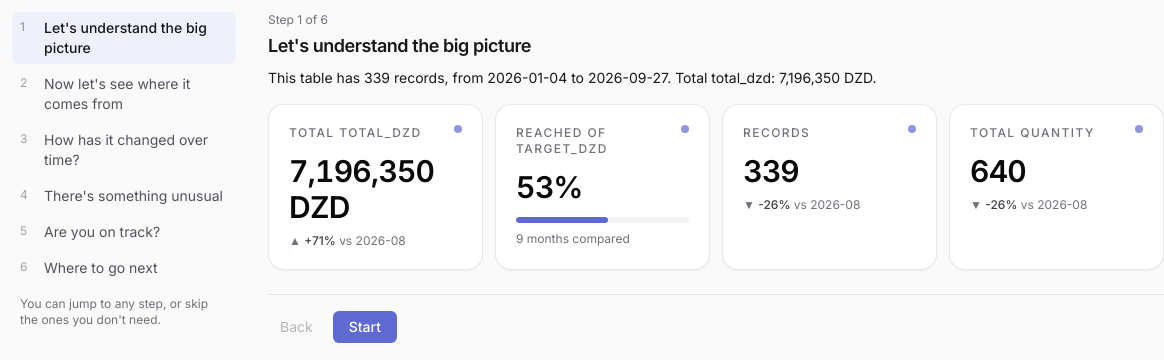
it: the tour › any step can be skipped to directly
The width and height of the screenshot is (1164, 360).
Click the text "Are you on track?": (102, 232) [44,222,160,242]
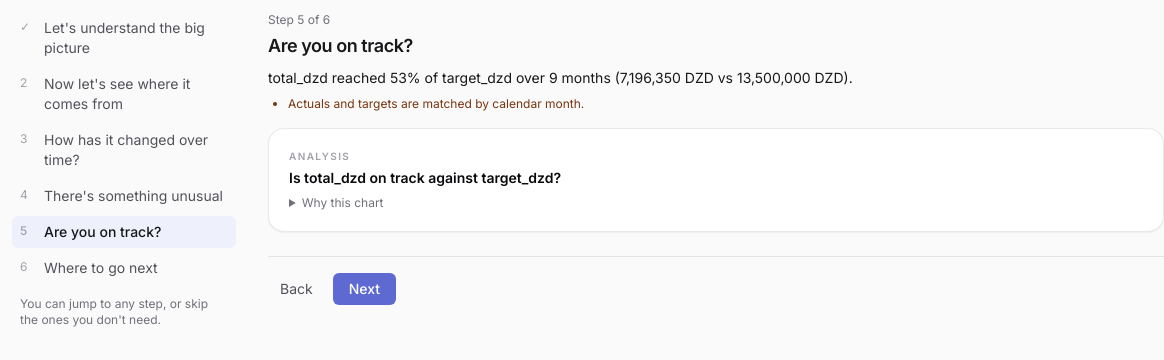
Now the heading "Are you on track?" is shown, box [268,35,413,56]
Now the text "53%" is shown, box [268,69,853,86]
